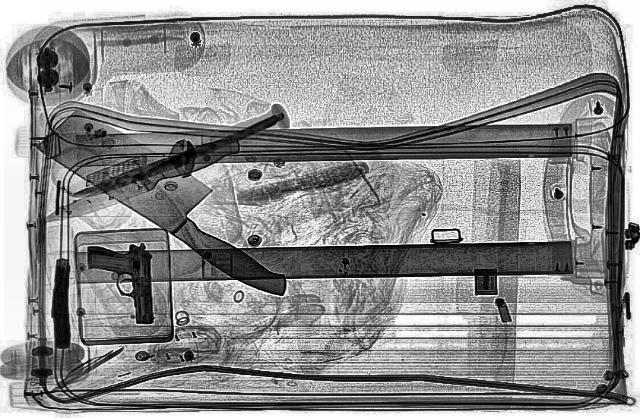Gun: (85, 242, 155, 324), (50, 260, 70, 348)
Knife: (20, 104, 332, 302), (25, 132, 249, 230), (70, 113, 292, 202)
